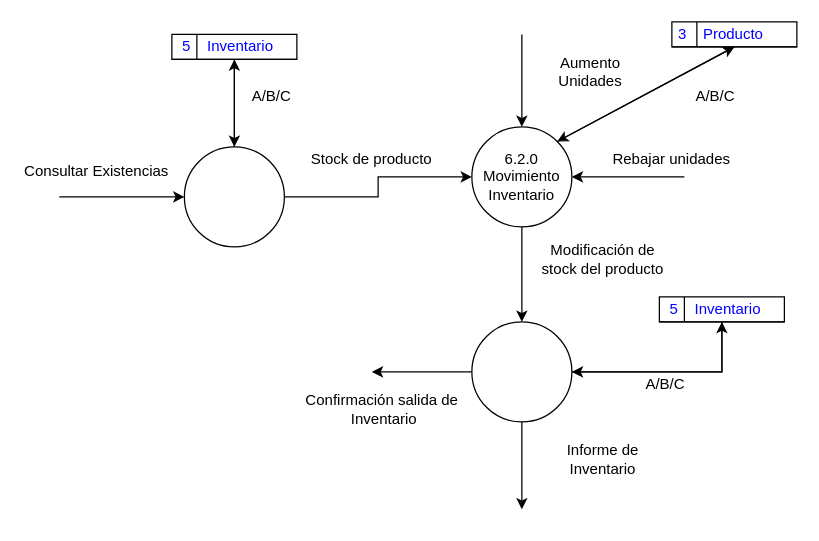
This 819x541 diagram has some shape labels left out. The centre of each missing label's shape, as x and y in pixels:
"6.1.0 Obtener nivel de Existencias" belongs at (x=233, y=196).
"6.3.0 Actualización de Inventario" belongs at (x=521, y=371).
